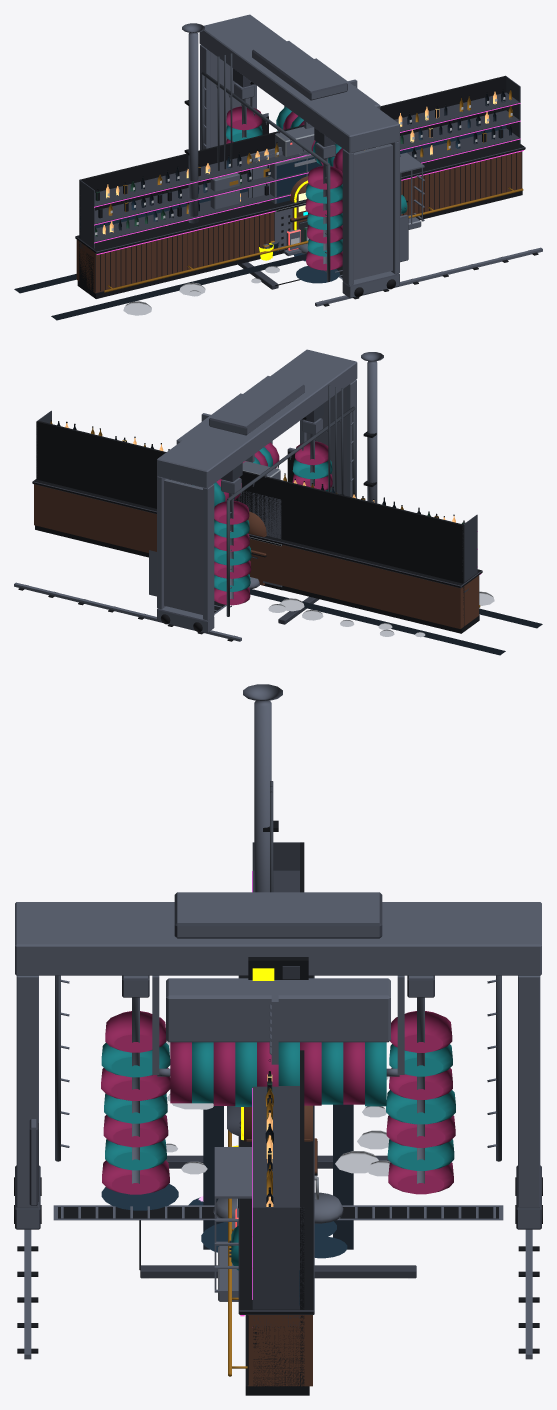
The model's file is room-detail-props.glb.
3 renders of one model, top to bottom at view 1: azimuth 30°, elevation 25°; view 2: azimuth 150°, elevation 25°; view 3: azimuth 270°, elevation 25°, orthographic. The views are drawn at different scales.
Visible parts, largest first — view 1: rd-cw-gantry, rd-koi-shelf, rd-koi-counter, rd-cw-machine, rd-cw-bay, rd-clinic-cabinet, rd-cw-chem, rd-koi-jukebox, rd-clinic-reception; view 2: rd-cw-gantry, rd-koi-shelf, rd-koi-counter, rd-cw-bay, rd-cw-machine, rd-clinic-cabinet, rd-koi-jukebox; view 3: rd-cw-gantry, rd-koi-shelf, rd-cw-bay, rd-koi-counter, rd-cw-machine, rd-cw-tubes, rd-clinic-lamp.
Boxes of the visible parts, left/top/right/bottom form: rd-cw-gantry: left=199, top=14, right=542, bottom=306; rd-koi-shelf: left=79, top=75, right=520, bottom=295; rd-koi-counter: left=75, top=141, right=525, bottom=298; rd-cw-machine: left=182, top=23, right=424, bottom=229; rd-cw-bay: left=14, top=239, right=342, bottom=320; rd-clinic-cabinet: left=270, top=126, right=321, bottom=203; rd-cw-chem: left=259, top=200, right=308, bottom=261; rd-koi-jukebox: left=290, top=176, right=308, bottom=242; rd-clinic-reception: left=274, top=203, right=305, bottom=251; rd-cw-gantry: left=14, top=349, right=357, bottom=641; rd-koi-shelf: left=36, top=410, right=477, bottom=626; rd-koi-counter: left=32, top=479, right=482, bottom=633; rd-cw-bay: left=214, top=589, right=542, bottom=655; rd-cw-machine: left=201, top=352, right=383, bottom=503; rd-clinic-cabinet: left=234, top=461, right=281, bottom=538; rd-koi-jukebox: left=248, top=511, right=266, bottom=585; rd-cw-gantry: left=14, top=892, right=542, bottom=1359; rd-koi-shelf: left=252, top=842, right=304, bottom=1395; rd-cw-bay: left=53, top=1041, right=503, bottom=1258; rd-koi-counter: left=228, top=975, right=314, bottom=1395; rd-cw-machine: left=214, top=684, right=282, bottom=1301; rd-cw-tubes: left=139, top=1155, right=416, bottom=1279; rd-clinic-lamp: left=213, top=1175, right=343, bottom=1223.
Bounding box in the file's own units: 11.23 × 5.63 × 6.12.
1 material, 1 textured.
